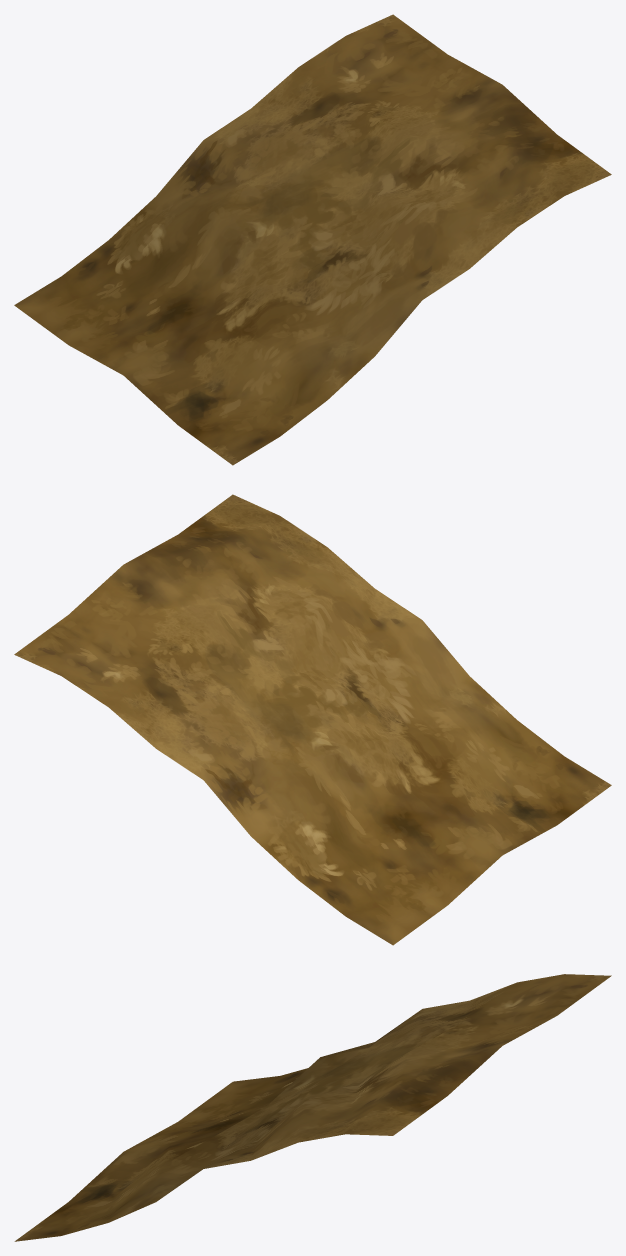
The model's file is Slope_002.fbx.
3 renders of one model, top to bottom at view 1: azimuth 30°, elevation 25°; view 2: azimuth 150°, elevation 25°; view 3: azimuth 330°, elevation 25°, orthographic.
Visible parts, largest first — view 1: Slope_002; view 2: Slope_002; view 3: Slope_002.
Part boxes in pixels (x1,y1,x2,y2): Slope_002: [14, 14, 611, 465]; Slope_002: [14, 494, 611, 945]; Slope_002: [14, 974, 611, 1241].
Size of the model in its own units: 10 by 5.25 by 10.
1 material, 1 textured.
